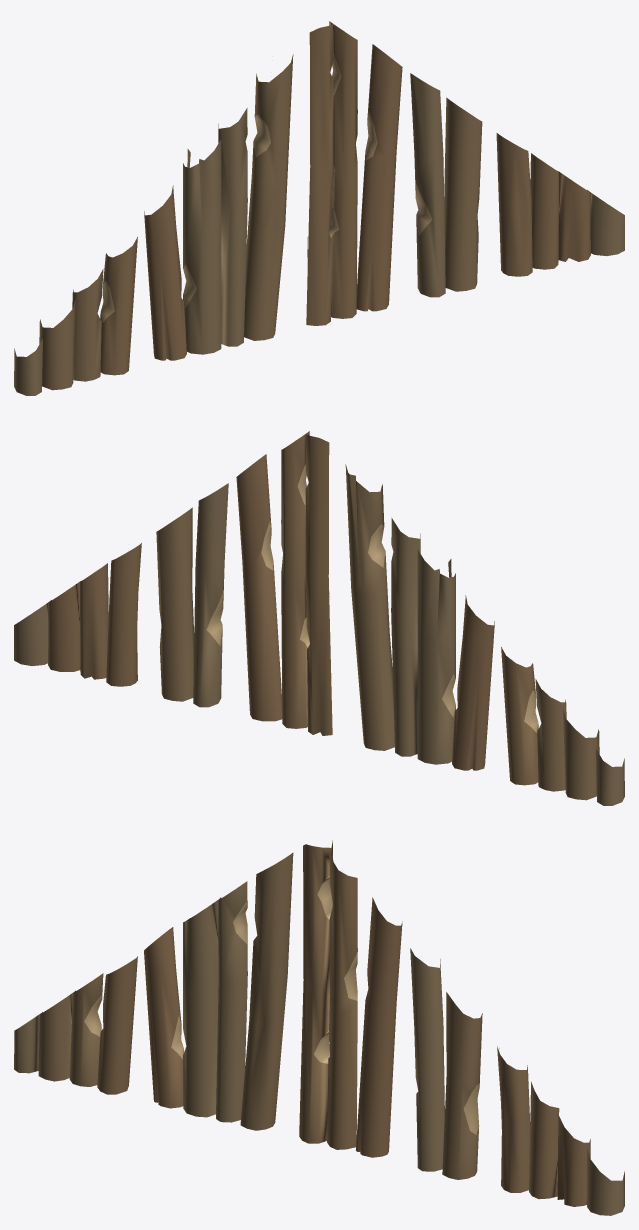
The model's file is rpgpp_av_roof_end_01_9x4_wall_04a.gltf.
3 views of the same model, one above another, from view 1: azimuth 30°, elevation 25°; view 2: azimuth 150°, elevation 25°; view 3: azimuth 330°, elevation 25° (orthographic).
Visible parts, largest first — view 1: rpgpp_av_roof_end_01_9x4_wall_04a; view 2: rpgpp_av_roof_end_01_9x4_wall_04a; view 3: rpgpp_av_roof_end_01_9x4_wall_04a.
Part boxes in pixels (x1=…): rpgpp_av_roof_end_01_9x4_wall_04a: x1=14, y1=21, x2=624, y2=395; rpgpp_av_roof_end_01_9x4_wall_04a: x1=14, y1=431, x2=624, y2=805; rpgpp_av_roof_end_01_9x4_wall_04a: x1=14, y1=840, x2=624, y2=1215.
Size of the model in its own units: 0.09 by 0.0423 by 0.00463.
1 material, 1 textured.
